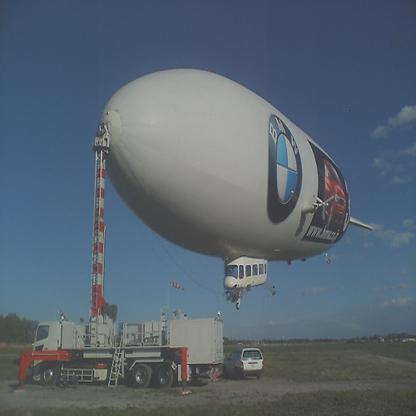Airship: (100, 76, 381, 305)
